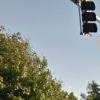traffic lights: (78, 0, 98, 37)
